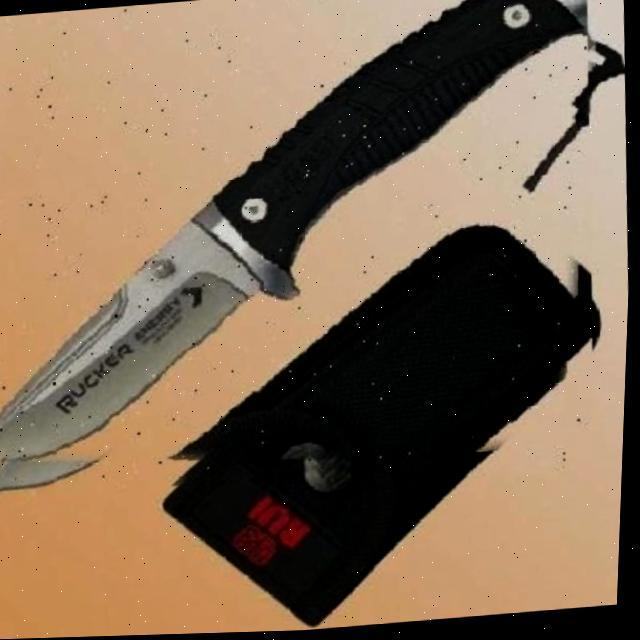knife: (0, 0, 610, 508)
